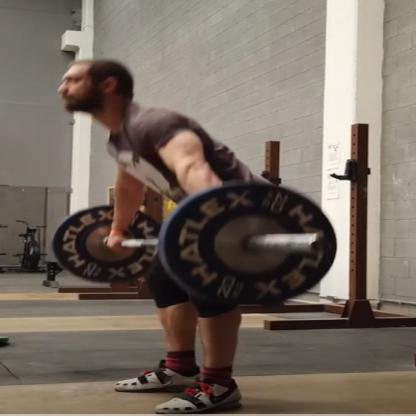barbell: (53, 182, 338, 313)
